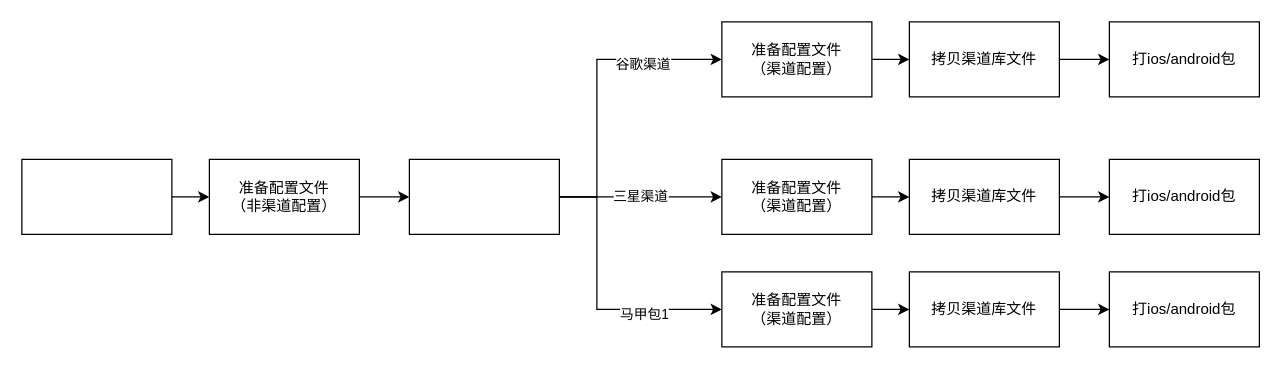
Some shapes in this 1281 by 369 pixel diagram are drawn without their labels. Each missing label, with the box of its shape:
打包ab资源: (21, 158, 172, 234)
编译unity工程: (408, 158, 559, 234)
